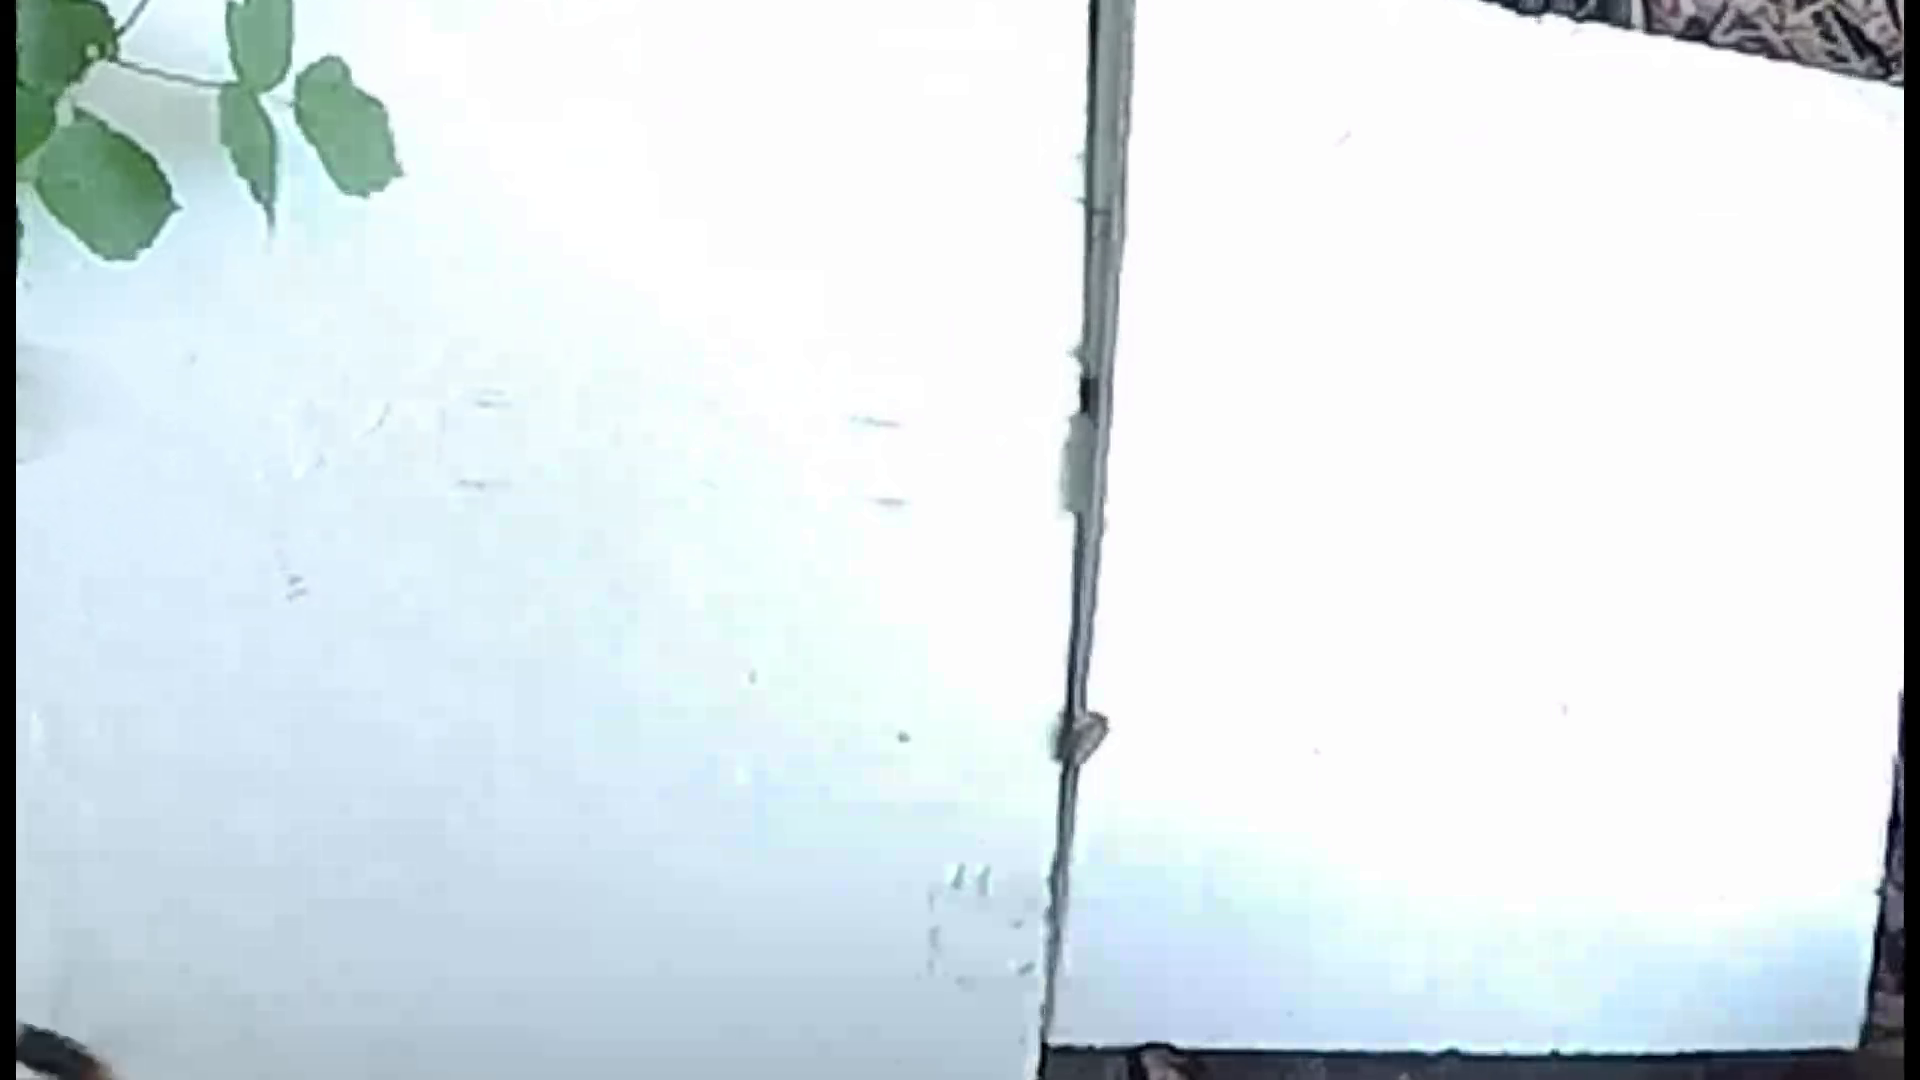Asian_hornets: (17, 993, 145, 1080)
